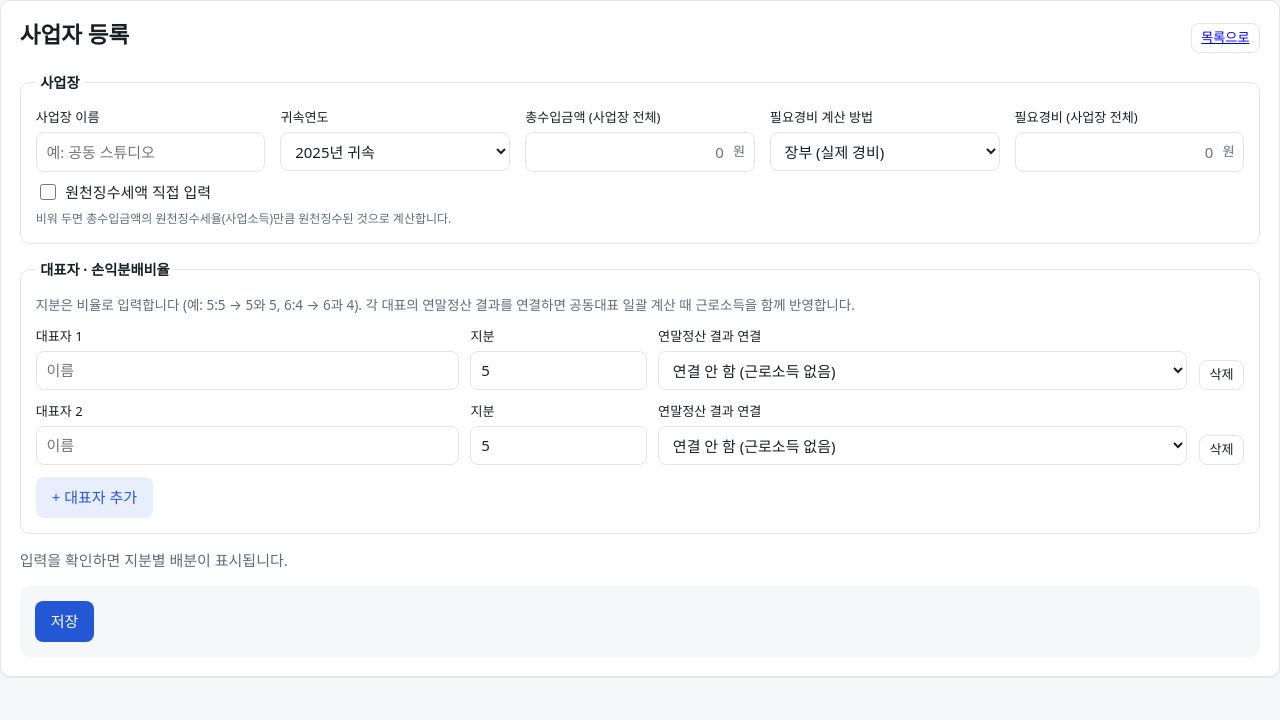
Scenario: 사업자 소득관리 › 같은 연말정산 결과를 두 대표에 연결하면 저장하지 않는다
In the field labelled "사업장 이름": point(151, 152) top-left (36, 132), bottom-right (266, 172), type "스튜디오"
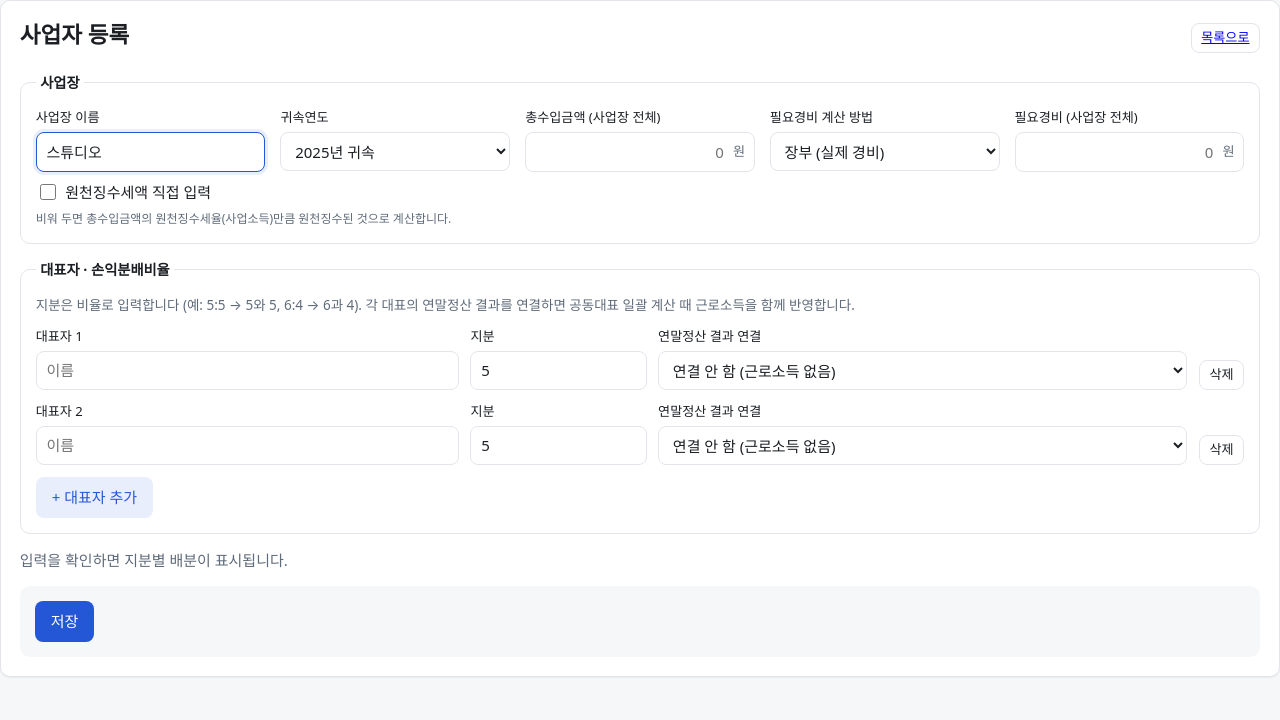
In the field labelled "대표자 1": point(248, 371) top-left (36, 351), bottom-right (459, 390), type "A"
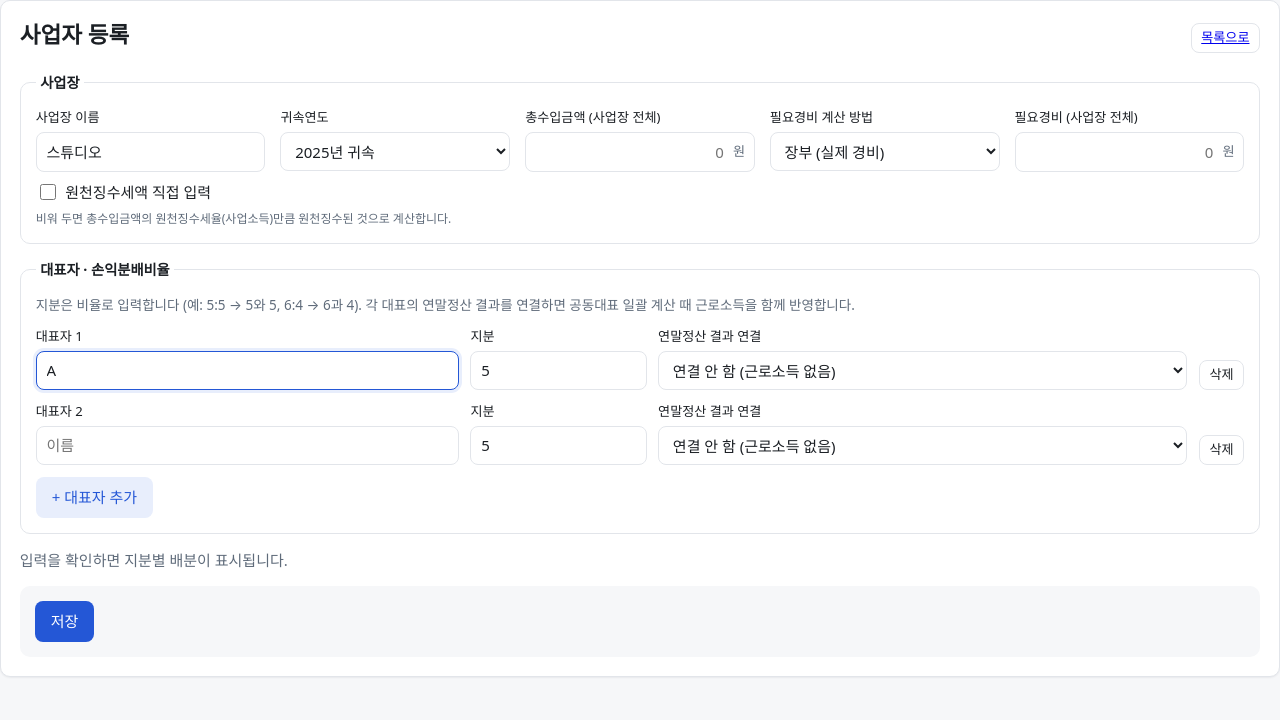
In the field labelled "대표자 2": point(248, 446) top-left (36, 426), bottom-right (459, 465), type "B"
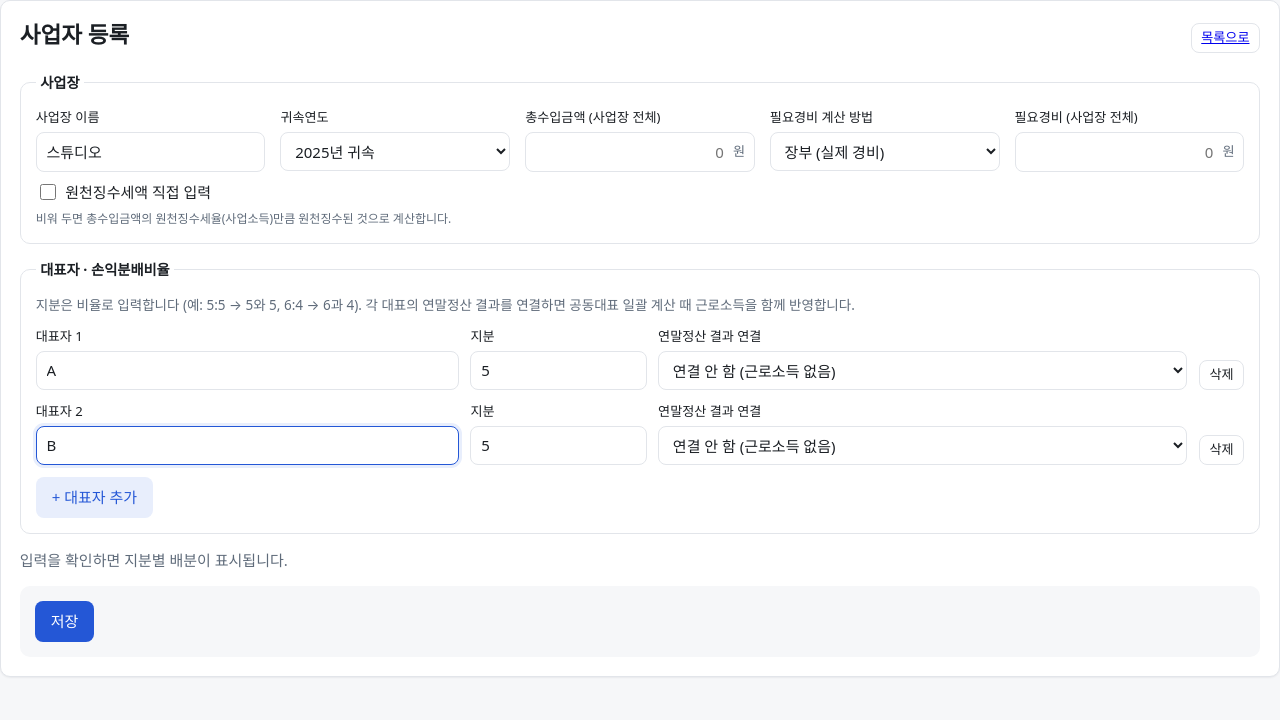
Select "김대표 연말정산" in the 1st dropdown labelled "연말정산 결과 연결": point(923, 371) top-left (658, 351), bottom-right (1187, 390)
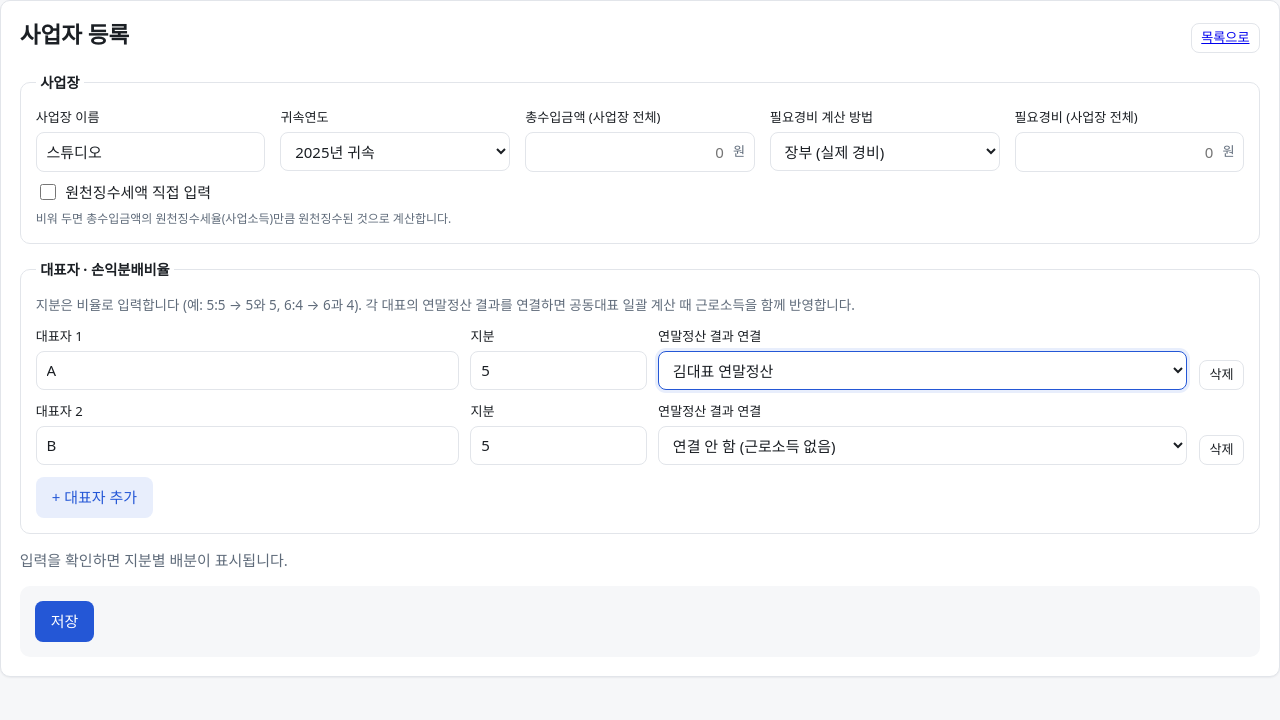
Select "김대표 연말정산" in the 2nd dropdown labelled "연말정산 결과 연결": point(923, 446) top-left (658, 426), bottom-right (1187, 465)
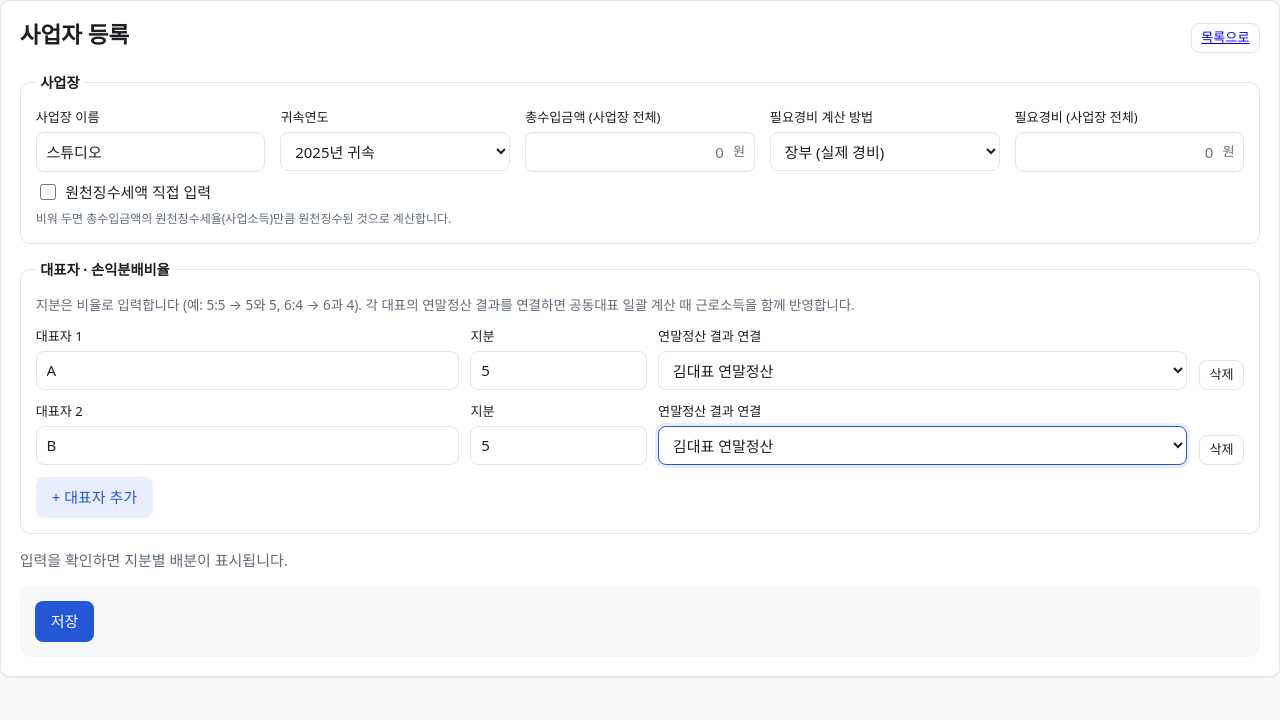
Click the button "저장": point(65, 622) top-left (35, 601), bottom-right (94, 642)
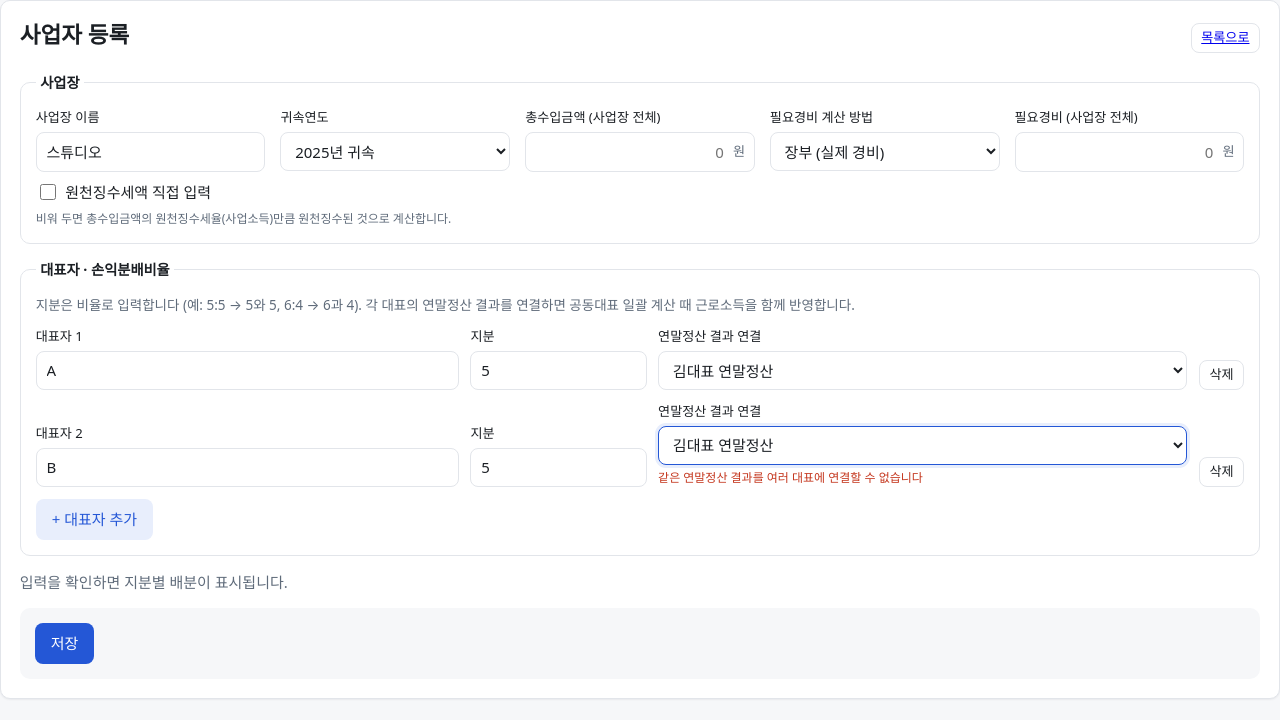
expect the text "같은 연말정산 결과를 여러 대표에 연결할 수 없습니다" is shown: met, box top-left (658, 469), bottom-right (923, 486)
